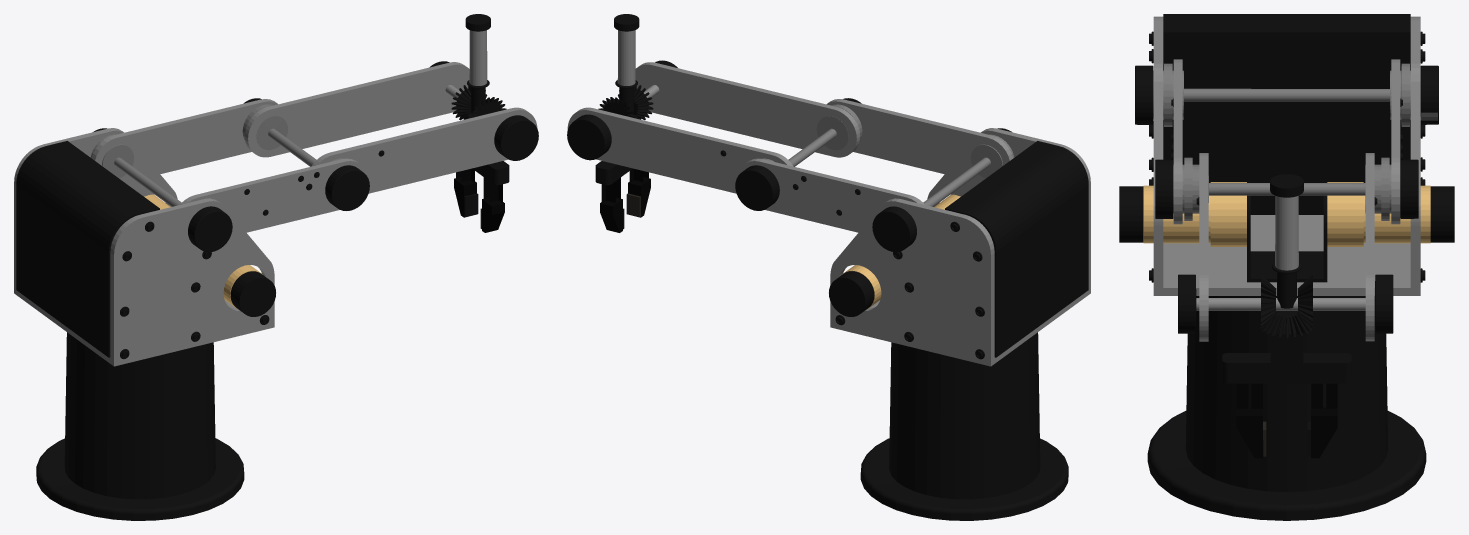
Rendered from ScorbotModel2.fbx.
3 views of the same model, side by side, from view 1: azimuth 30°, elevation 25°; view 2: azimuth 150°, elevation 25°; view 3: azimuth 270°, elevation 25° (orthographic). The views are drawn at different scales.
Visible parts, largest first — view 1: Hombro, Base, Antebrazo, Brazo, Mano, Segmento2Der, Segmento2Izq; view 2: Hombro, Base, Antebrazo, Brazo, Mano, Segmento2Izq, Segmento2Der; view 3: Hombro, Base, Brazo, Antebrazo, Mano, Segmento2Der, Segmento2Izq, Segmento1Izq, Segmento1Der.
Part boxes in pixels (x1,y1,x2,y2): Hombro: (14,128,275,366); Base: (36,332,244,520); Antebrazo: (244,61,538,193); Brazo: (91,98,369,232); Mano: (465,14,509,185); Segmento2Der: (454,177,478,217); Segmento2Izq: (480,197,504,232); Hombro: (829,128,1090,366); Base: (860,332,1068,520); Antebrazo: (567,60,860,193); Brazo: (735,98,1013,232); Mano: (595,14,639,185); Segmento2Izq: (626,177,650,217); Segmento2Der: (600,197,624,232); Hombro: (1119,14,1454,295); Base: (1147,296,1426,520); Brazo: (1155,59,1418,224); Antebrazo: (1178,153,1393,341); Mano: (1222,174,1351,383); Segmento2Der: (1307,407,1337,458); Segmento2Izq: (1236,407,1266,458); Segmento1Izq: (1236,383,1262,408); Segmento1Der: (1311,383,1337,408).
Size of the model in its own units: 58.04 by 45.77 by 27.76.
